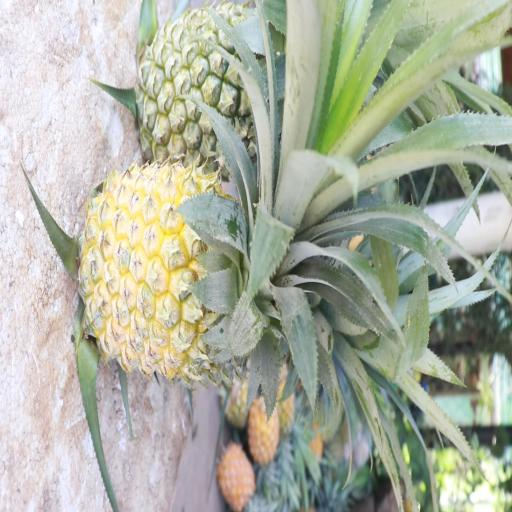------------------------------: (140, 0, 318, 166)
Pineapple - v8 v1: (84, 163, 283, 375), (219, 440, 255, 510), (250, 391, 279, 466)
